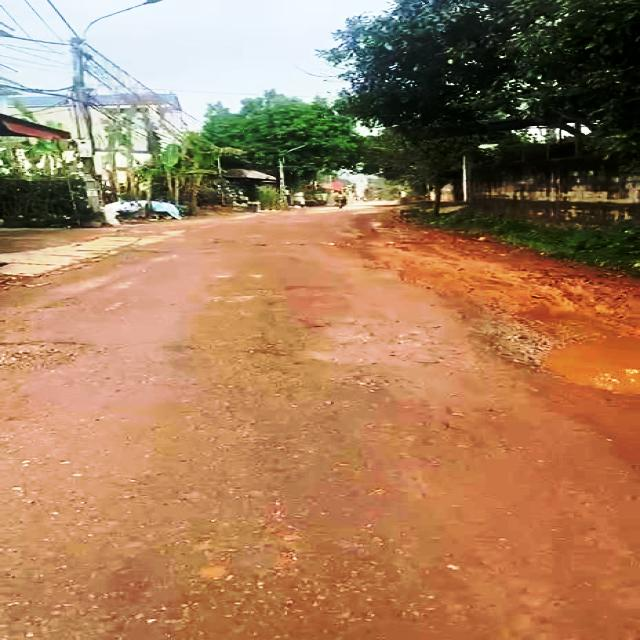pothole: (511, 333, 640, 396), (0, 335, 99, 377)
